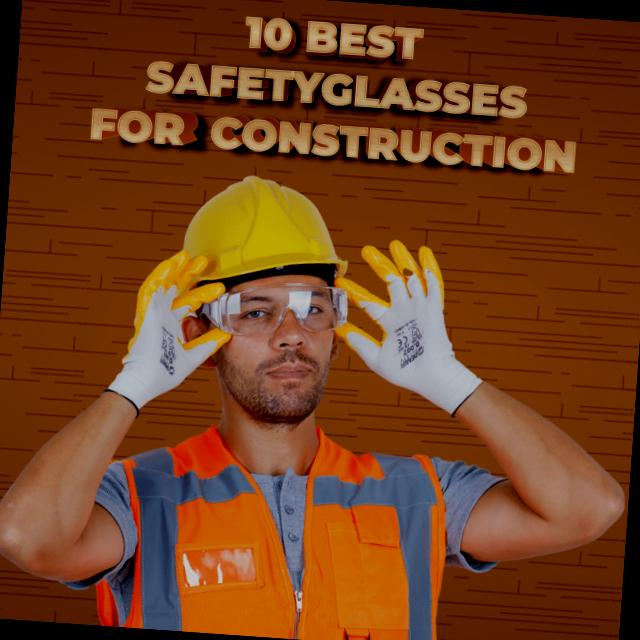goggles: (186, 272, 352, 348)
helmet: (154, 166, 362, 298)
vest: (83, 403, 466, 640)
